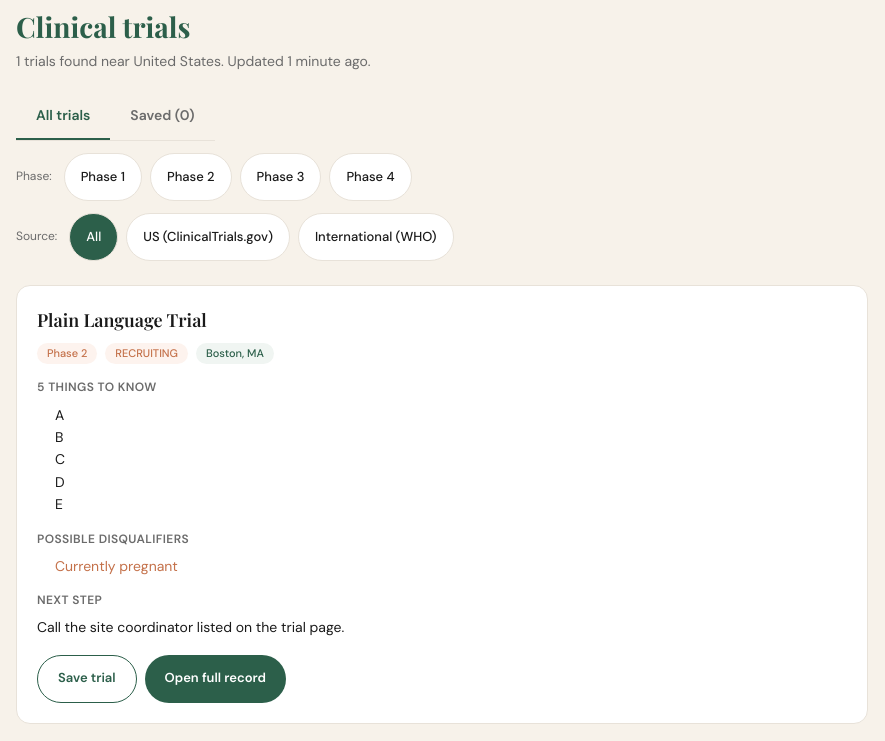
Test: TrialCard (rendered via trials page) › 2. save button POSTs to /api/trials/save and toggles to saved state
Click the button with aria-label "Save Plain Language Trial": (87, 679) [37,655,137,703]
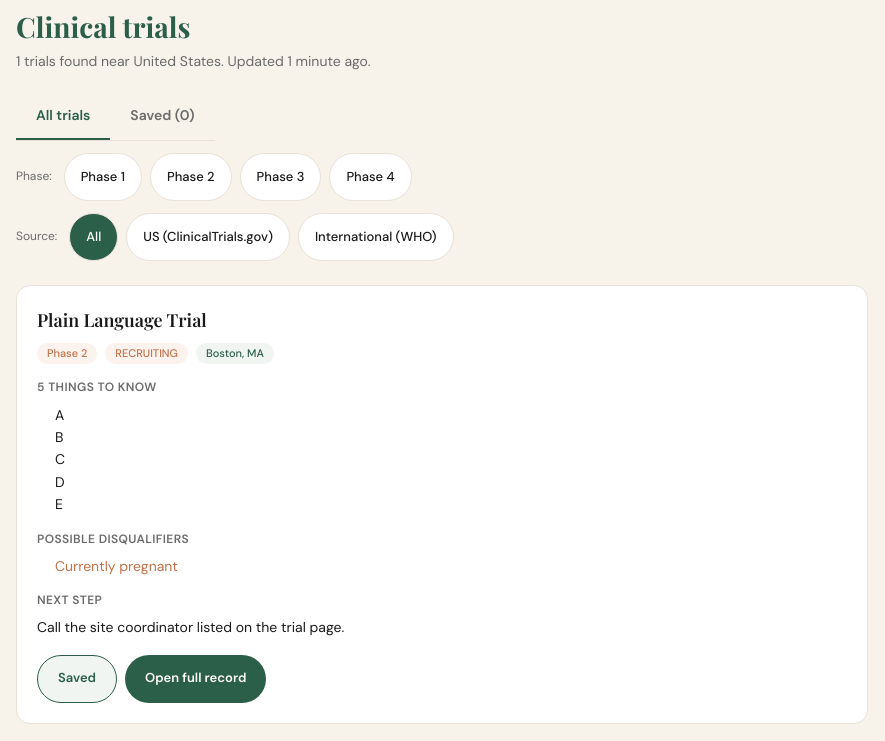
expect the button "Saved" is shown: met, box [37,655,117,703]
